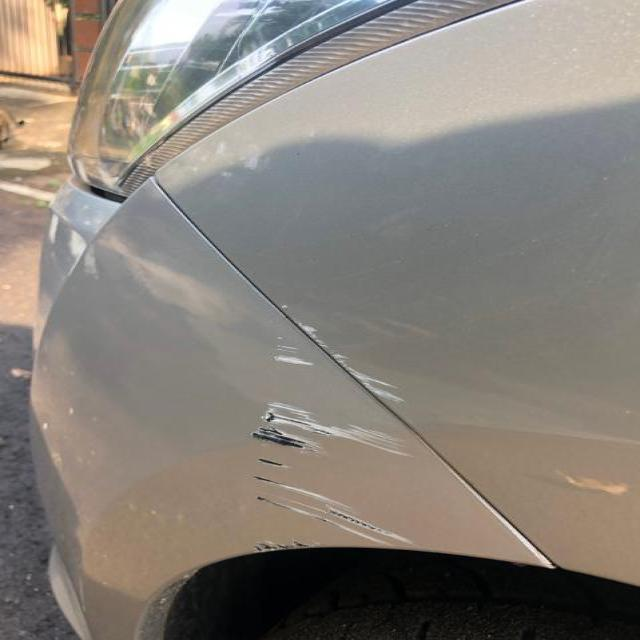Dent: (30, 318, 136, 530), (285, 314, 402, 406), (329, 0, 505, 55), (258, 491, 401, 543), (494, 421, 638, 453), (484, 506, 554, 566), (529, 464, 628, 496), (326, 420, 410, 453), (372, 314, 438, 341), (261, 407, 326, 432), (355, 382, 405, 403), (295, 321, 326, 342), (273, 354, 314, 366), (80, 246, 96, 274), (252, 540, 282, 549), (254, 475, 284, 484), (255, 458, 286, 466), (50, 448, 61, 470), (274, 343, 298, 352), (291, 540, 310, 547), (330, 352, 346, 360), (263, 411, 275, 420), (510, 560, 525, 567), (278, 303, 287, 309), (42, 420, 48, 429), (255, 494, 265, 499), (66, 405, 72, 413)
